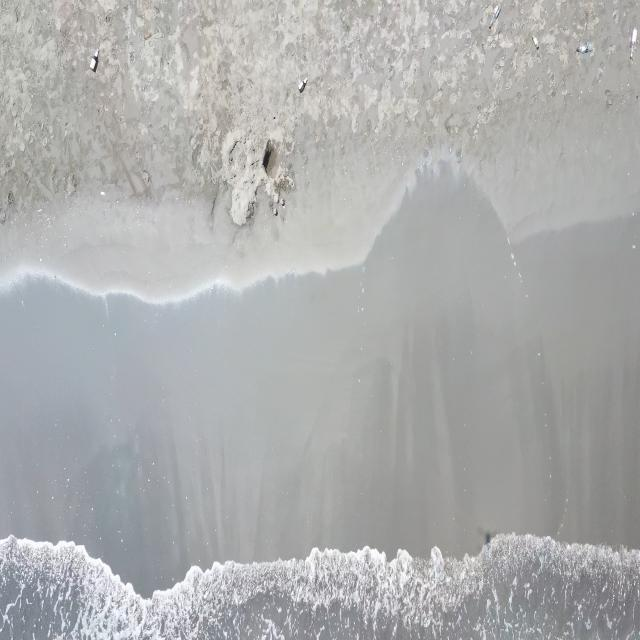glass: (488, 1, 502, 30), (89, 48, 100, 72), (630, 26, 638, 59), (576, 41, 594, 53), (297, 77, 308, 93), (531, 34, 540, 50)
